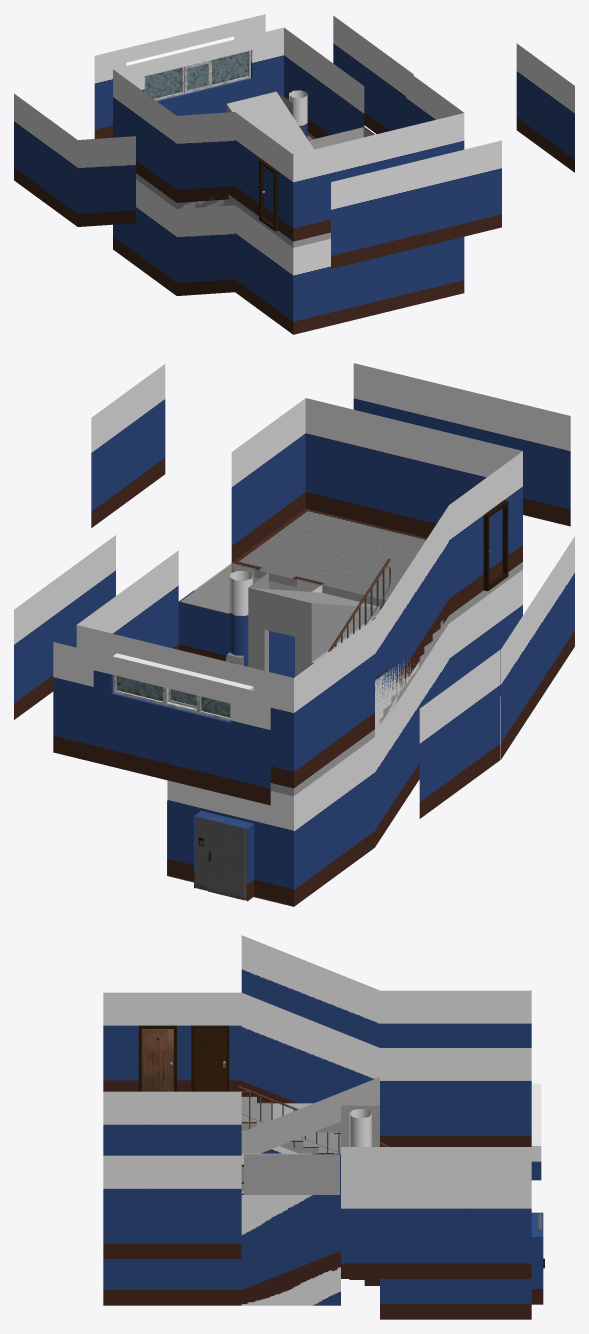
File: Entrance.fbx
3 renders of one model, top to bottom at view 1: azimuth 30°, elevation 25°; view 2: azimuth 150°, elevation 25°; view 3: azimuth 270°, elevation 25°, orthographic. The views are drawn at different scales.
Visible parts, largest first — view 1: Padik_Deck_Walls, Padik_Deck_1_Walls, Padik_SepWalls_5, Padik_SepWalls_2, Padik_SepWalls_3, Padik_SepWalls_4, Padik_SepWalls_1, Padik_SepWalls_Window.001, Padik_Deck_Last_End, Padik_Deck_Walls_Window_Glass, Padik_GGDoor_Frame, Padik_ElevatorShaft (+4 smaller); view 2: Padik_Deck_Walls, Padik_Deck_1_Walls, Padik_SepWalls_Window.001, Padik_SepWalls_5, Padik_Deck_Elevator, Padik_SepWalls_2, Padik_Deck_1_Walls_Door_Frame_Exit, Padik_SepWalls_1, Padik_Deck_Last_End, Padik_SepWalls_4, Padik_SepWalls_3, Padik_ElevatorShaft (+9 smaller); view 3: Padik_Deck_Walls, Padik_SepWalls_1, Padik_ElevatorShaft, Padik_SepWalls_4, Padik_SepWalls_2, Padik_SepWalls_3, Padik_Deck_1_Walls, Padik_Deck_1_Base, Padik_Deck_Last_End, Padik_Door, Padik_GGDoor_Door, Padik_Ladder (+4 smaller).
Part boxes in pixels (x1=…): Padik_Deck_Walls: x1=113, y1=27, x2=464, y2=241; Padik_Deck_1_Walls: x1=113, y1=179, x2=464, y2=334; Padik_SepWalls_5: x1=331, y1=140, x2=501, y2=268; Padik_SepWalls_2: x1=14, y1=93, x2=77, y2=226; Padik_SepWalls_3: x1=77, y1=136, x2=135, y2=226; Padik_SepWalls_4: x1=516, y1=43, x2=574, y2=172; Padik_SepWalls_1: x1=333, y1=15, x2=413, y2=133; Padik_SepWalls_Window.001: x1=94, y1=14, x2=265, y2=138; Padik_Deck_Last_End: x1=181, y1=91, x2=314, y2=208; Padik_Deck_Walls_Window_Glass: x1=145, y1=51, x2=248, y2=98; Padik_GGDoor_Frame: x1=259, y1=159, x2=278, y2=231; Padik_ElevatorShaft: x1=308, y1=126, x2=374, y2=149; Padik_Deck_Walls: x1=76, y1=398, x2=522, y2=788; Padik_Deck_1_Walls: x1=294, y1=570, x2=522, y2=906; Padik_SepWalls_Window.001: x1=53, y1=642, x2=270, y2=805; Padik_SepWalls_5: x1=353, y1=363, x2=570, y2=526; Padik_Deck_Elevator: x1=231, y1=508, x2=522, y2=623; Padik_SepWalls_2: x1=419, y1=649, x2=500, y2=818; Padik_Deck_1_Walls_Door_Frame_Exit: x1=168, y1=780, x2=293, y2=905; Padik_SepWalls_1: x1=14, y1=535, x2=115, y2=719; Padik_Deck_Last_End: x1=248, y1=573, x2=439, y2=736; Padik_SepWalls_4: x1=91, y1=364, x2=165, y2=527; Padik_SepWalls_3: x1=501, y1=536, x2=574, y2=759; Padik_ElevatorShaft: x1=178, y1=563, x2=322, y2=677; Padik_Deck_Walls: x1=103, y1=992, x2=541, y2=1180; Padik_SepWalls_1: x1=341, y1=1175, x2=531, y2=1278; Padik_ElevatorShaft: x1=241, y1=1153, x2=340, y2=1305; Padik_SepWalls_4: x1=103, y1=1155, x2=241, y2=1258; Padik_SepWalls_2: x1=380, y1=990, x2=531, y2=1047; Padik_SepWalls_3: x1=241, y1=935, x2=379, y2=1047; Padik_Deck_1_Walls: x1=103, y1=1146, x2=297, y2=1305; Padik_Deck_1_Base: x1=380, y1=1279, x2=531, y2=1319; Padik_Deck_Last_End: x1=241, y1=1077, x2=379, y2=1153; Padik_Door: x1=191, y1=1025, x2=229, y2=1091; Padik_GGDoor_Door: x1=141, y1=1029, x2=173, y2=1091; Padik_Ladder: x1=241, y1=1096, x2=340, y2=1153.
Size of what is drawn, in the model's own units: 16.03 by 9.13 by 17.22.
